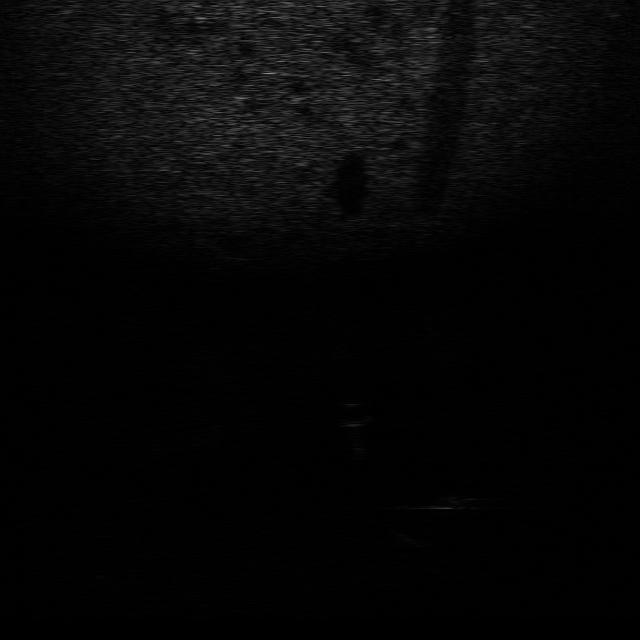ball: (325, 393, 375, 428)
metal bucket: (382, 524, 437, 553)
tyre: (415, 485, 491, 520)
